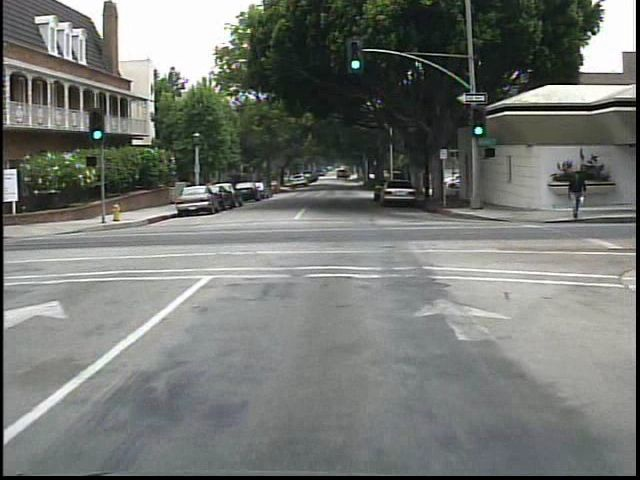person: (559, 166, 589, 222)
